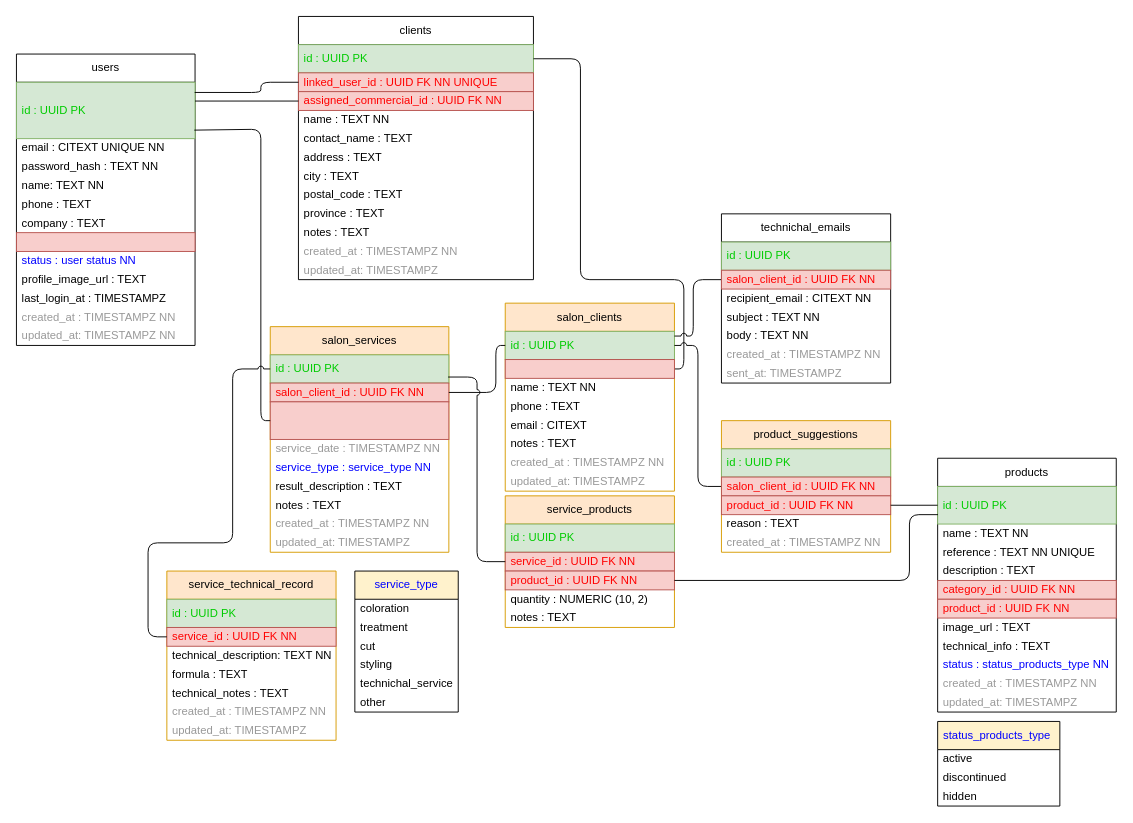
The diagram is 1133 pixels wide and 823 high, and some of its shapes have lost their labels. Here are the shapes that lost their labels. From the top down, the centre of each, then its label:
At [105,241]: "role_id : SMALLINT NN FK".
At [589,368]: "client_id : UUID FK NN".
At [359,420]: "performed_by_user_id : UUID FK NN".
